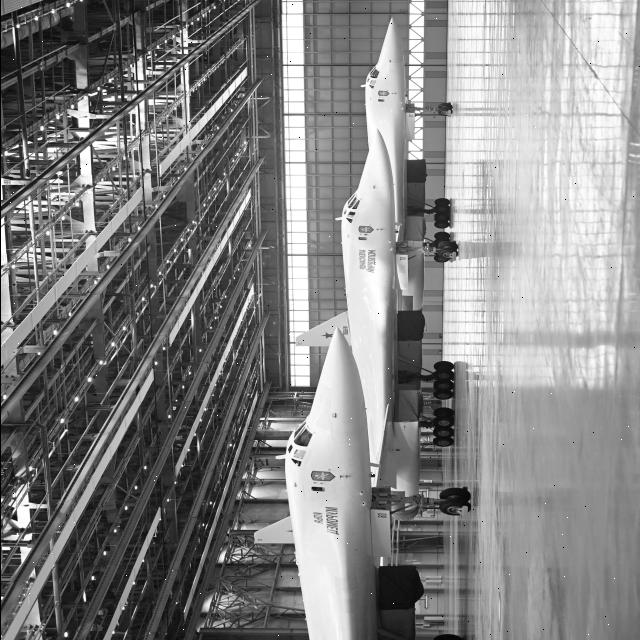Tu160: (256, 123, 480, 569), (243, 328, 427, 640), (354, 8, 480, 297)
